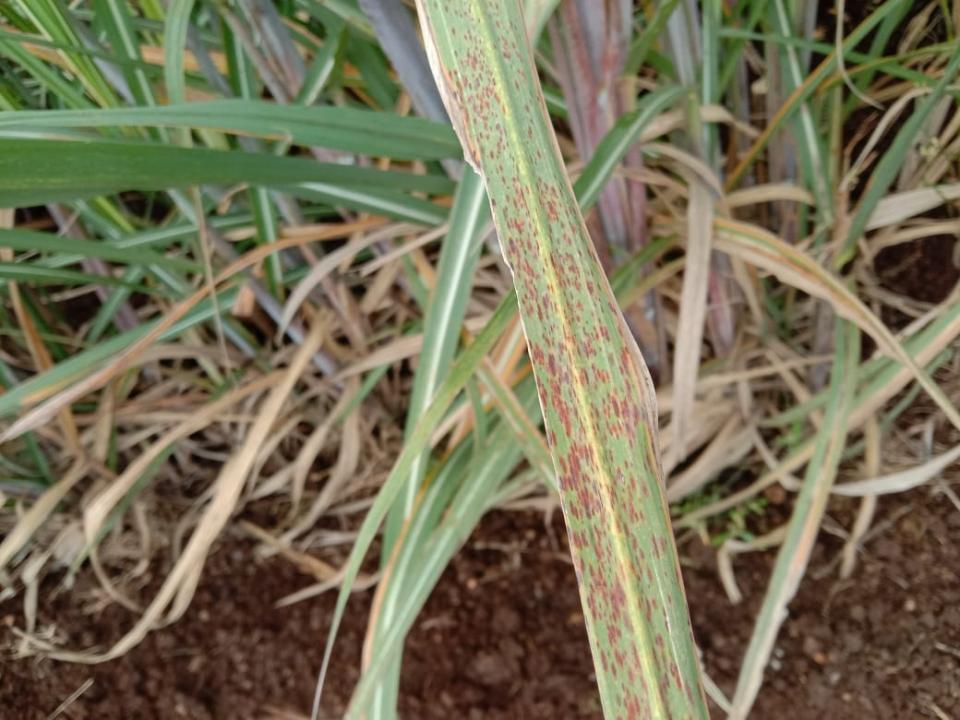Rust: (422, 0, 705, 719), (501, 35, 511, 60), (516, 69, 527, 84), (488, 1, 500, 11), (515, 51, 524, 64), (526, 124, 533, 140), (510, 20, 518, 32), (514, 79, 521, 91), (528, 154, 534, 165), (524, 104, 530, 115), (537, 150, 543, 160), (528, 117, 535, 125), (528, 90, 534, 98), (511, 41, 517, 49), (487, 13, 493, 20), (495, 20, 500, 28), (495, 37, 500, 45), (492, 44, 498, 50), (505, 78, 510, 85), (534, 159, 538, 166), (510, 64, 514, 71), (536, 96, 540, 101), (505, 30, 509, 35), (498, 0, 503, 4), (496, 13, 500, 17), (529, 99, 532, 104)
